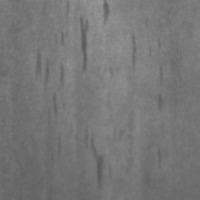inclusion: (32, 31, 70, 115), (72, 125, 107, 188), (76, 15, 93, 78), (45, 90, 64, 143), (126, 31, 143, 76), (98, 1, 112, 28), (153, 90, 167, 117), (152, 145, 165, 174), (155, 62, 167, 87)
